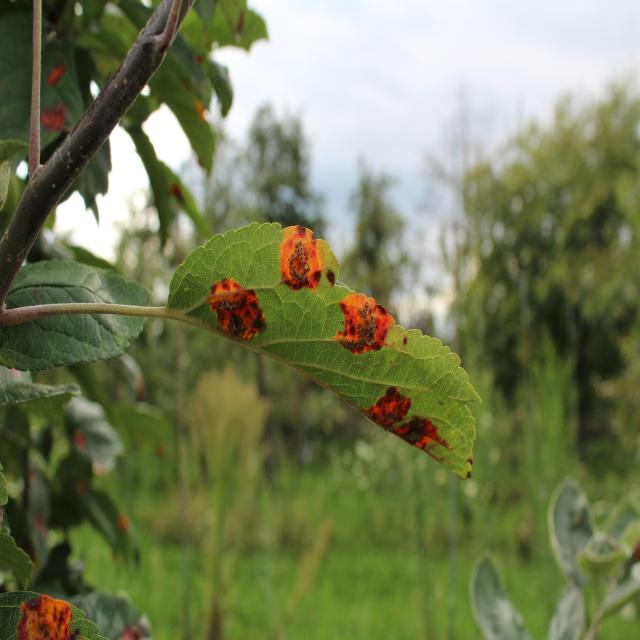Rust: (358, 386, 455, 476), (205, 272, 278, 362), (331, 284, 404, 360), (274, 215, 334, 301), (8, 593, 82, 640)
